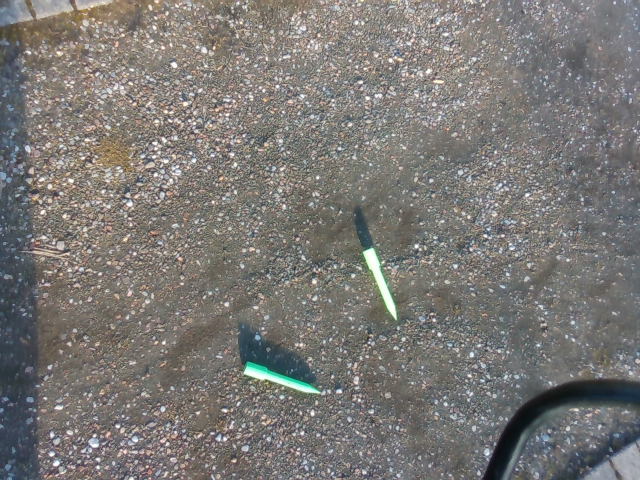Probe: (359, 239, 401, 324), (237, 360, 326, 396)
